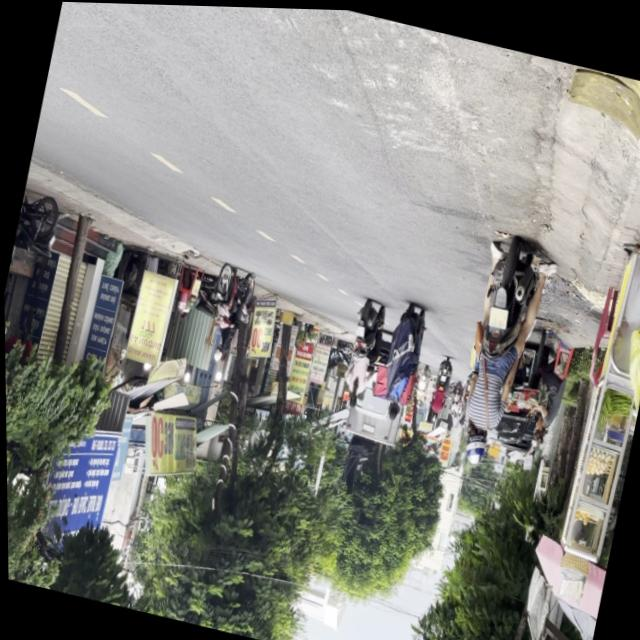helmet: (458, 421, 486, 463)
licenseplate: (440, 225, 555, 472)
nohelmet: (485, 303, 507, 325)
